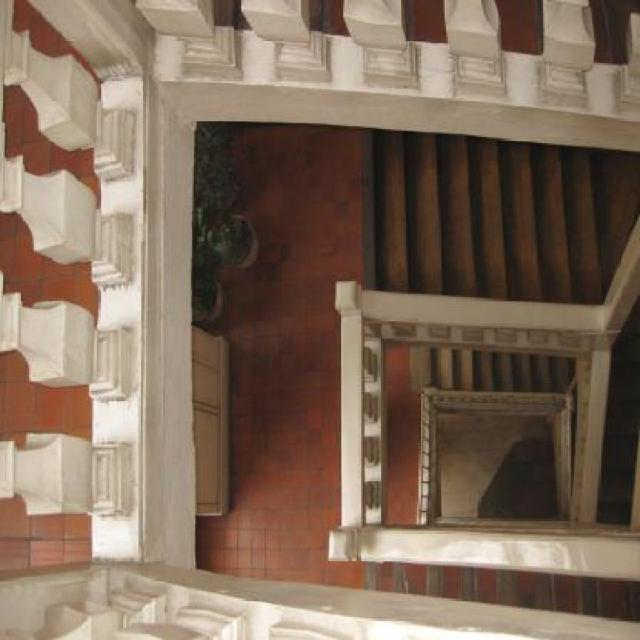stair: (326, 14, 640, 366)
